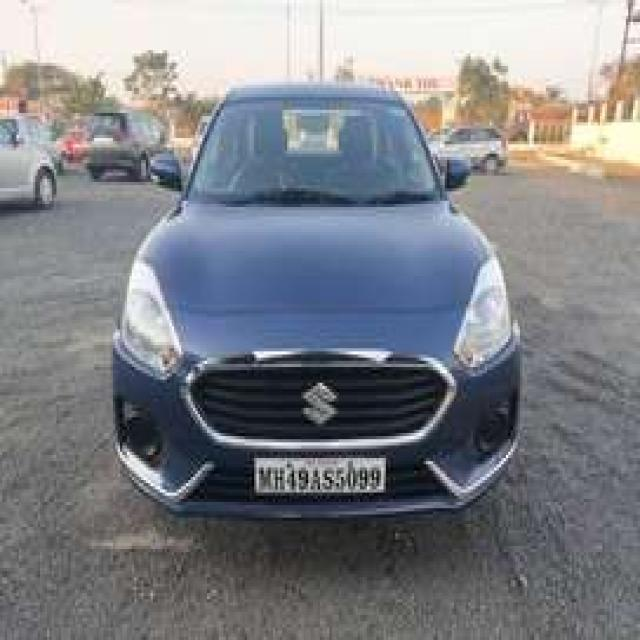Plate: (253, 453, 385, 490)
